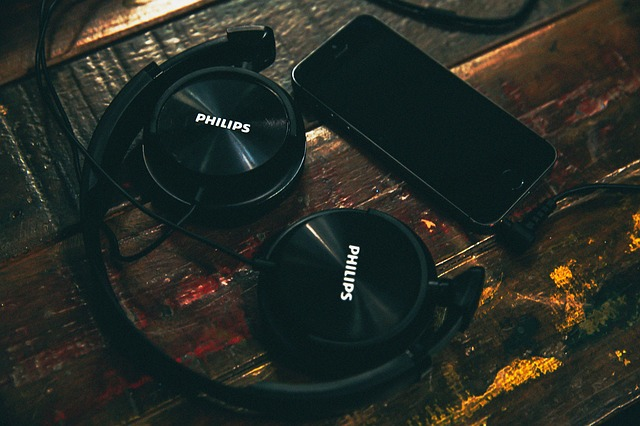headphones: (79, 25, 487, 409)
